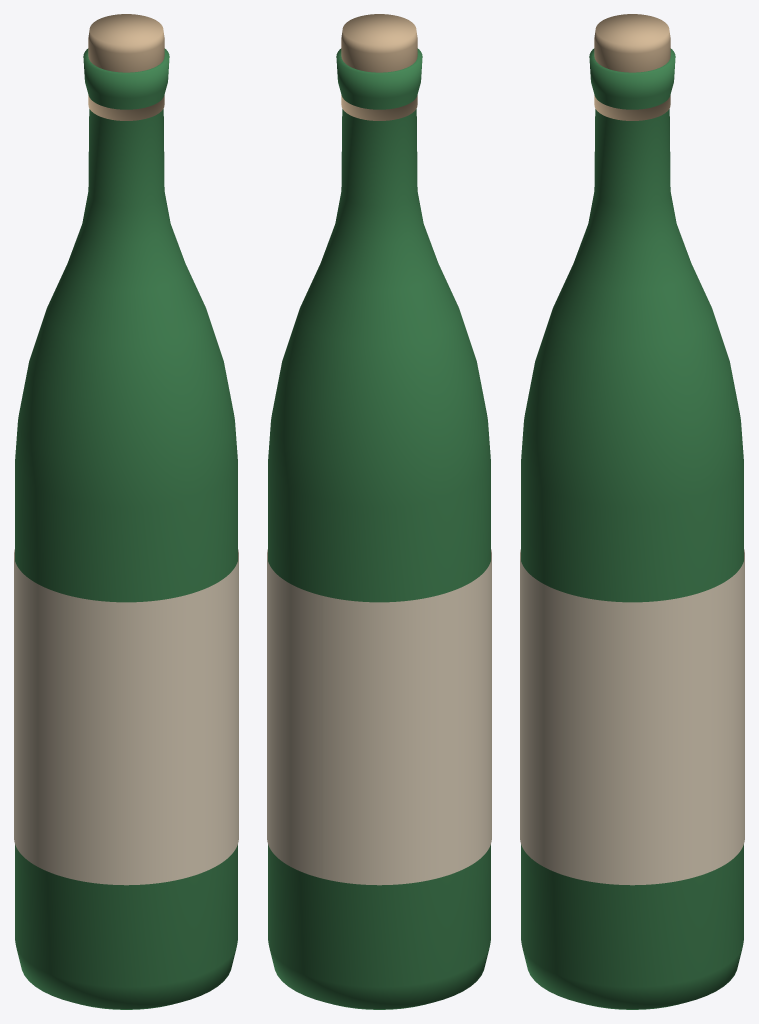
File: wine_classic_minimal.glb
3 renders of one model, left to right at view 1: azimuth 30°, elevation 25°; view 2: azimuth 150°, elevation 25°; view 3: azimuth 270°, elevation 25°, orthographic.
Parts seen in each view (by area): view 1: Glass, Label_band, Cap; view 2: Glass, Label_band, Cap; view 3: Glass, Label_band, Cap.
Boxes of the visible parts, x1=… form: Glass: x1=15, y1=48, x2=237, y2=1009; Label_band: x1=14, y1=549, x2=238, y2=885; Cap: x1=88, y1=14, x2=164, y2=120; Glass: x1=268, y1=48, x2=490, y2=1009; Label_band: x1=267, y1=549, x2=491, y2=885; Cap: x1=341, y1=14, x2=417, y2=120; Glass: x1=521, y1=48, x2=743, y2=1009; Label_band: x1=520, y1=549, x2=744, y2=885; Cap: x1=594, y1=14, x2=670, y2=120.
Size of the model in its own units: 0.0757 by 0.35 by 0.0757.
